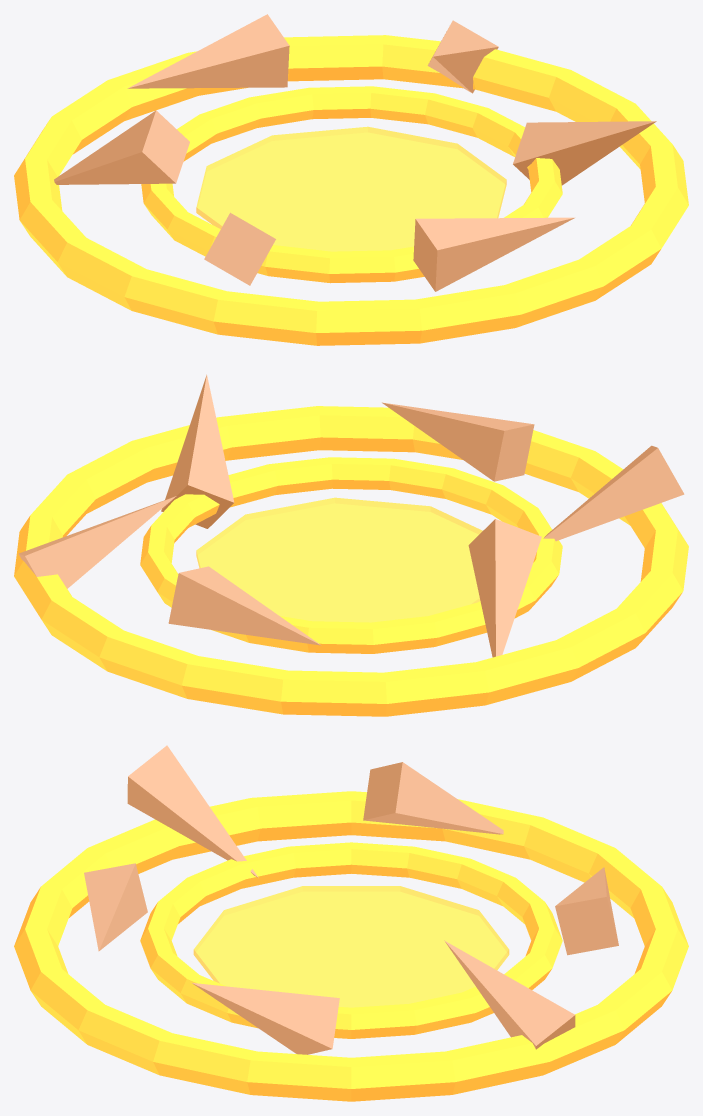
The model's file is aegis-s0-fx.glb.
3 views of the same model, one above another, from view 1: azimuth 30°, elevation 25°; view 2: azimuth 150°, elevation 25°; view 3: azimuth 270°, elevation 25° (orthographic).
Parts seen in each view (by area): view 1: shockwave-outer, ground-flash, shockwave-inner, rock-1, rock-4, rock-3, rock-0, rock-2, rock-5; view 2: shockwave-outer, ground-flash, shockwave-inner, rock-3, rock-4, rock-1, rock-2, rock-0, rock-5; view 3: shockwave-outer, ground-flash, shockwave-inner, rock-2, rock-0, rock-3, rock-5, rock-4, rock-1.
Boxes of the visible parts, x1,y1,x2,y2 form: shockwave-outer: [14, 35, 688, 345]; ground-flash: [196, 126, 506, 251]; shockwave-inner: [141, 86, 562, 283]; rock-1: [413, 217, 574, 291]; rock-4: [127, 14, 289, 88]; rock-3: [54, 110, 189, 184]; rock-0: [513, 121, 656, 185]; rock-2: [204, 212, 275, 285]; rock-5: [427, 20, 498, 93]; shockwave-outer: [14, 406, 688, 716]; ground-flash: [196, 497, 482, 622]; shockwave-inner: [140, 457, 562, 653]; rock-3: [468, 519, 541, 657]; rock-4: [168, 566, 321, 645]; rock-1: [382, 402, 534, 481]; rock-2: [543, 445, 684, 541]; rock-0: [161, 374, 234, 528]; rock-5: [18, 496, 176, 588]; shockwave-outer: [14, 791, 688, 1101]; ground-flash: [193, 886, 509, 1007]; shockwave-inner: [140, 842, 562, 1038]; rock-2: [127, 745, 258, 877]; rock-0: [192, 983, 339, 1054]; rock-3: [363, 762, 503, 834]; rock-5: [444, 940, 575, 1049]; rock-4: [555, 867, 618, 955]; rock-1: [84, 863, 147, 951].
Size of the model in its own units: 2.14 by 0.4549 by 2.14.
